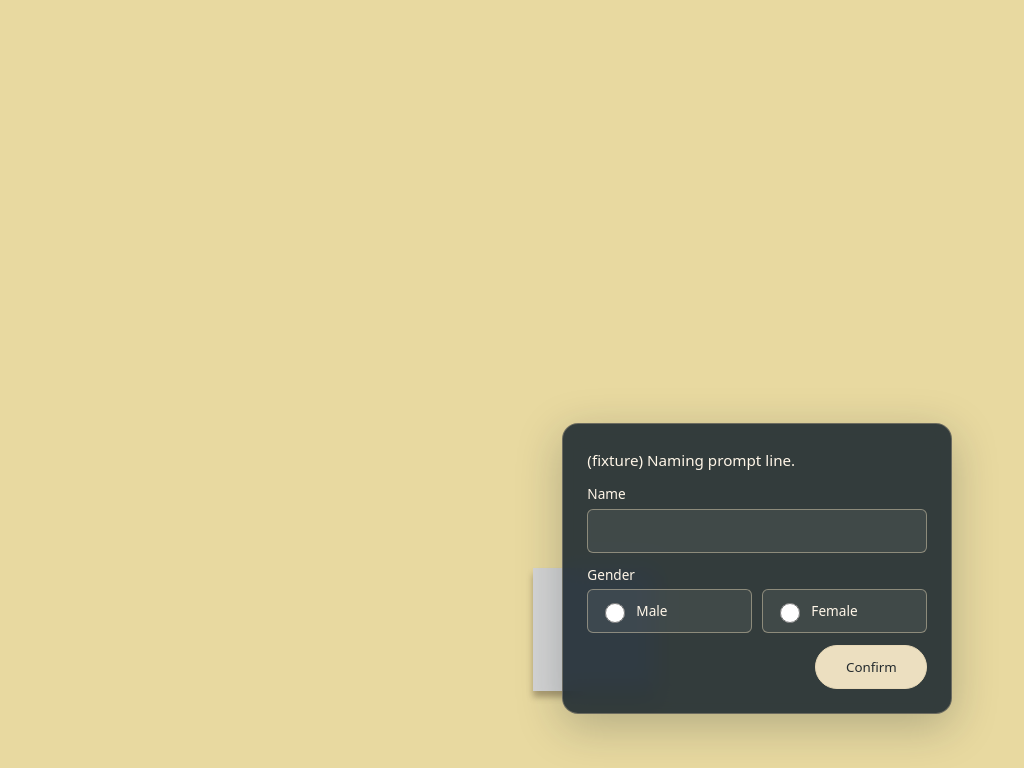
Test: NamingPrompt › shows the real before/after collar character art once registered, never before
This screenshot has width=1024, height=768.
Type "Luna" into the field with test id "naming-name-input" at (757, 531), box top-left (587, 509), bottom-right (927, 553)
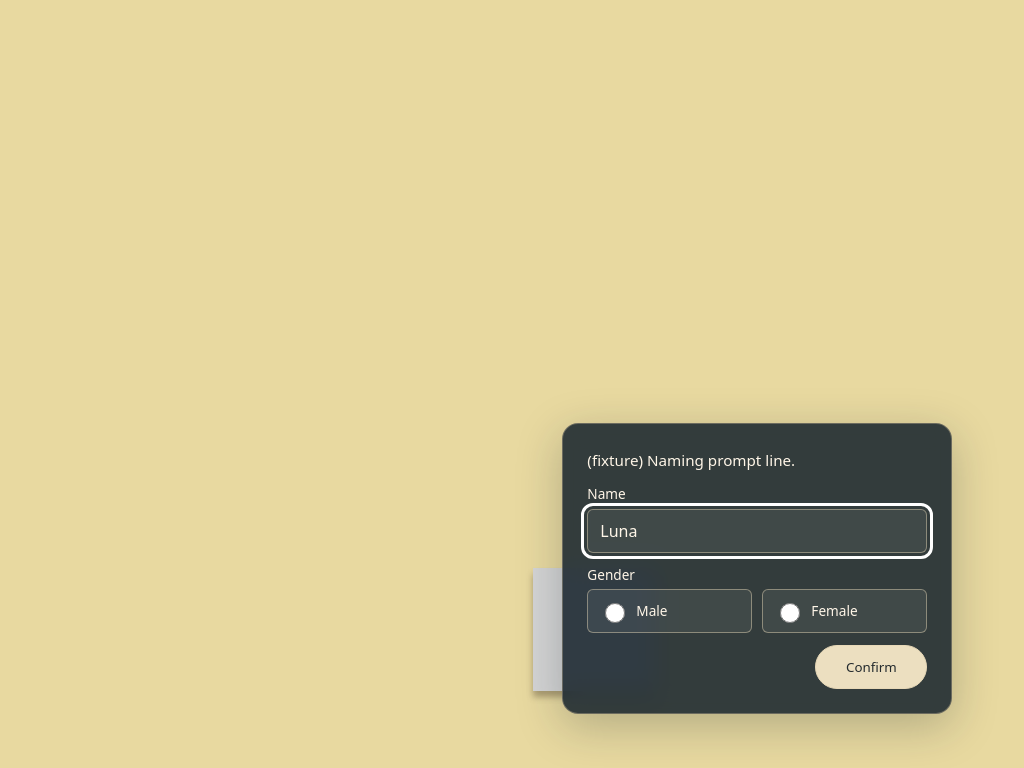
Click the radio button with test id "naming-gender-female" at (790, 613), box top-left (780, 603), bottom-right (800, 623)
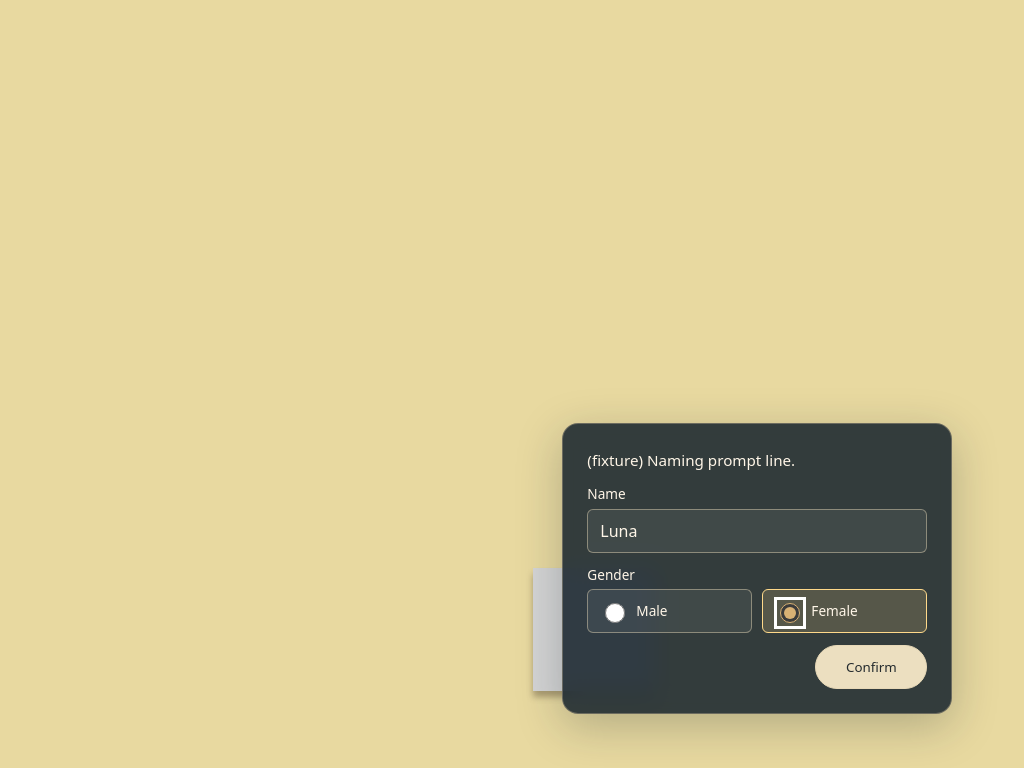
Click the button with test id "naming-submit" at (871, 667), box top-left (815, 645), bottom-right (927, 689)
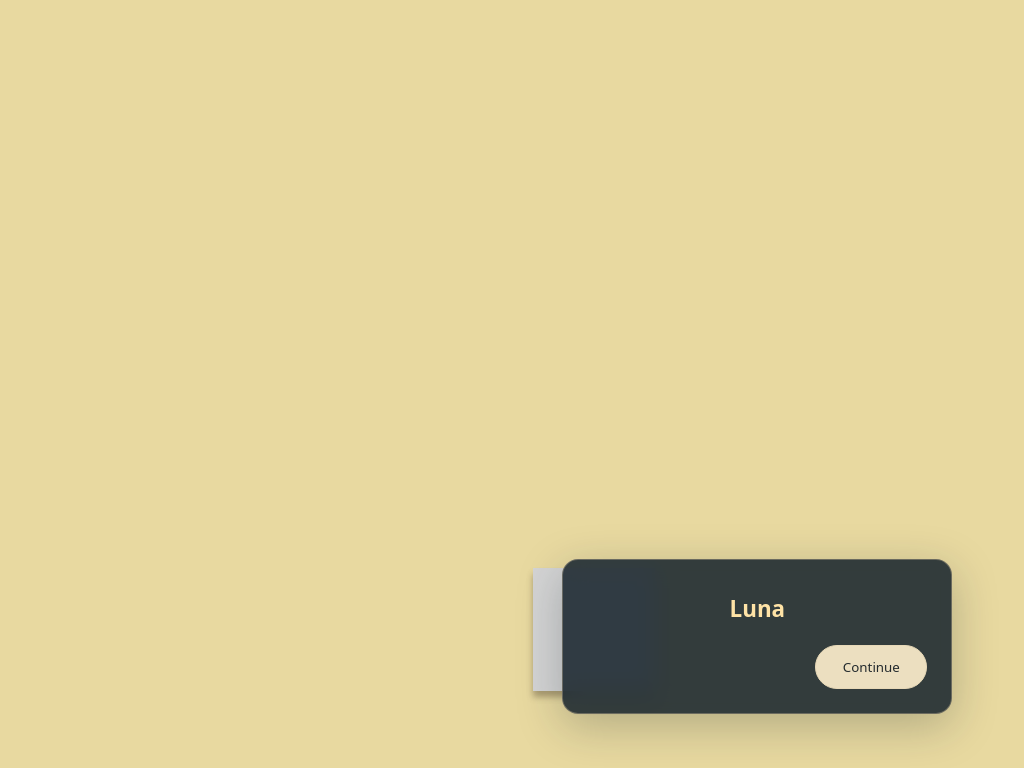
Now the text "Luna" is shown, box top-left (730, 593), bottom-right (785, 624)
